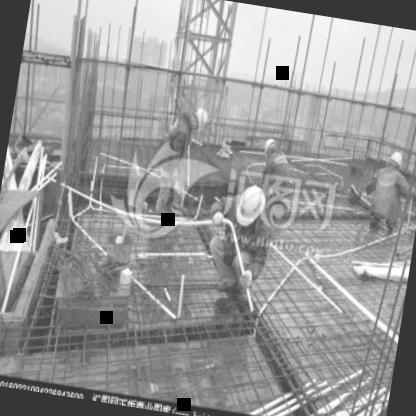helmet: (234, 179, 270, 231), (186, 105, 210, 136), (260, 136, 280, 157), (387, 150, 405, 172)
